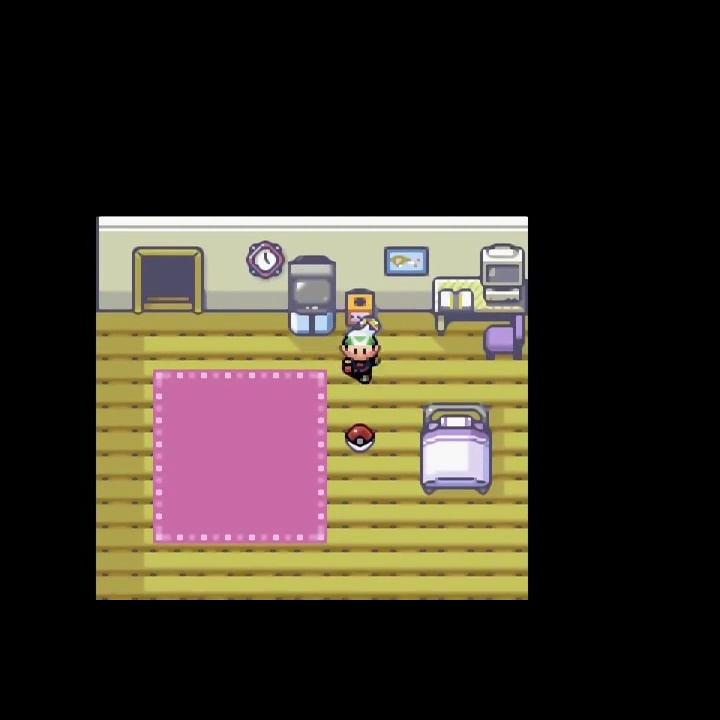npc: (339, 322, 383, 387)
